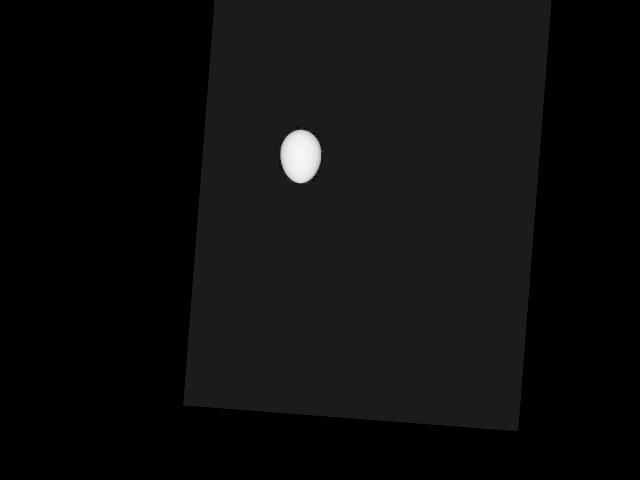egg: (278, 128, 323, 184)
